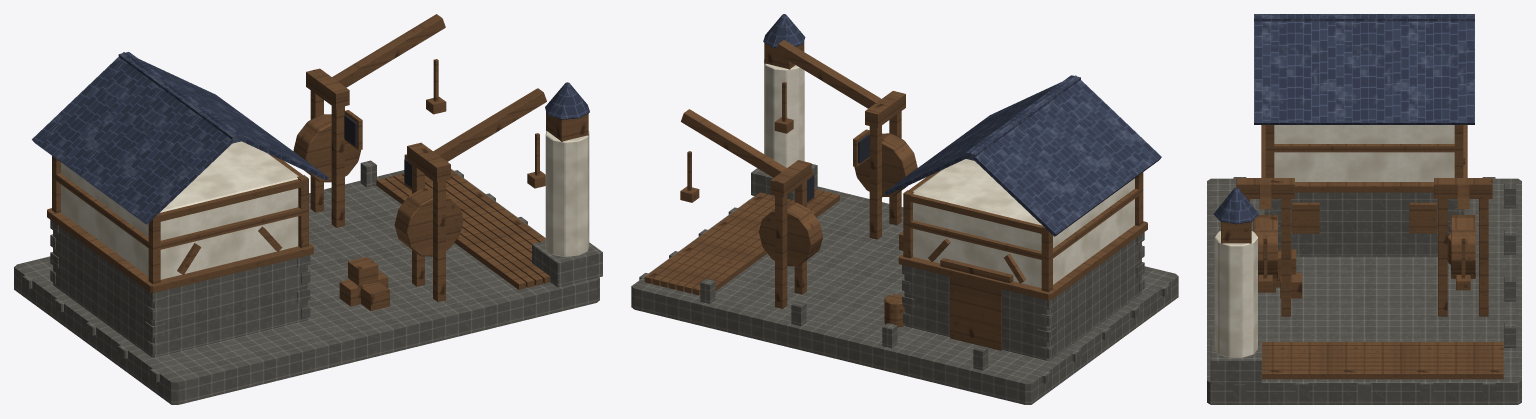
The model's file is port.gltf.
3 renders of one model, left to right at view 1: azimuth 30°, elevation 25°; view 2: azimuth 150°, elevation 25°; view 3: azimuth 270°, elevation 25°, orthographic. The views are drawn at different scales.
Parts seen in each view (by area): view 1: Port; view 2: Port; view 3: Port.
Part boxes in pixels (box(x1,y1,x2,y2)): Port: box(14, 14, 602, 404); Port: box(631, 14, 1178, 404); Port: box(1207, 14, 1521, 404).
Bounding box in the file's own units: 6.72 × 3.42 × 4.3.
8 materials, 7 textured.
